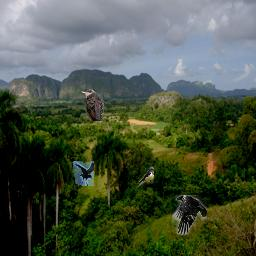Crow: (172, 195, 207, 235), (73, 161, 94, 186)
Cuckoo: (81, 89, 104, 121)
Swallow: (135, 167, 154, 191)
